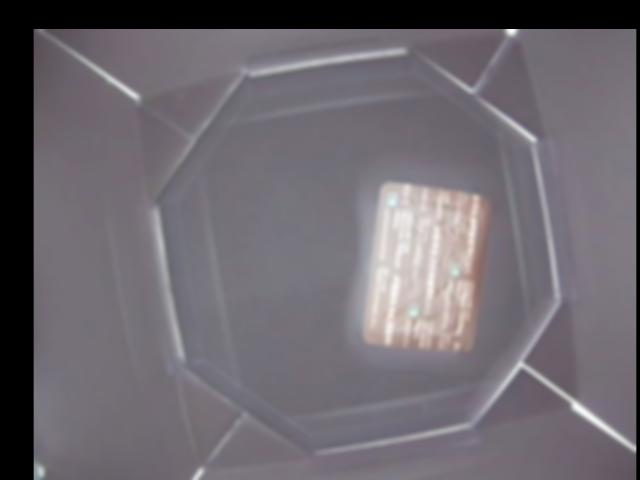Medicine: (360, 180, 490, 354)
